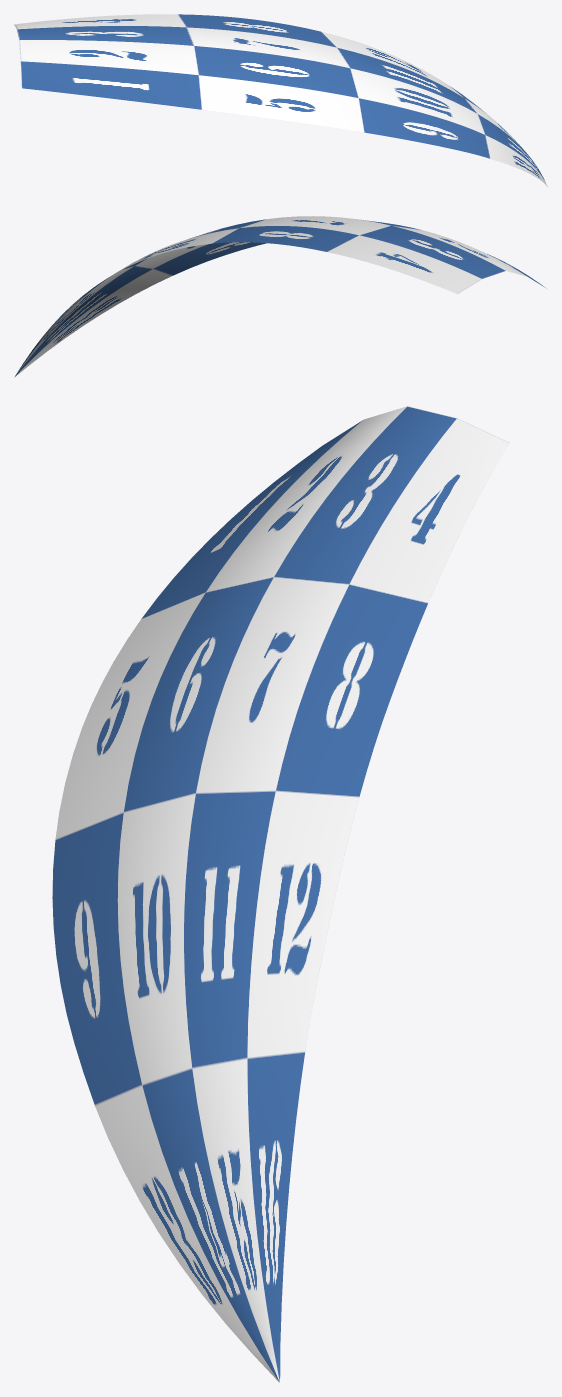
Rendered from RuiDad_Wind4.fbx.
3 renders of one model, top to bottom at view 1: azimuth 30°, elevation 25°; view 2: azimuth 150°, elevation 25°; view 3: azimuth 270°, elevation 25°, orthographic. The views are drawn at different scales.
Parts seen in each view (by area): view 1: SM_e_Plc_P1009_Wind003; view 2: SM_e_Plc_P1009_Wind003; view 3: SM_e_Plc_P1009_Wind003.
Part boxes in pixels (x1,y1,x2,y2): SM_e_Plc_P1009_Wind003: (14, 14, 547, 186); SM_e_Plc_P1009_Wind003: (14, 216, 546, 377); SM_e_Plc_P1009_Wind003: (52, 406, 509, 1382).
Size of the model in its own units: 192 by 87.5 by 73.77.
1 material, 1 textured.
